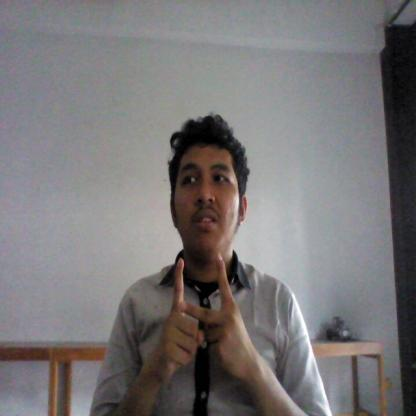H: (154, 250, 254, 381)
